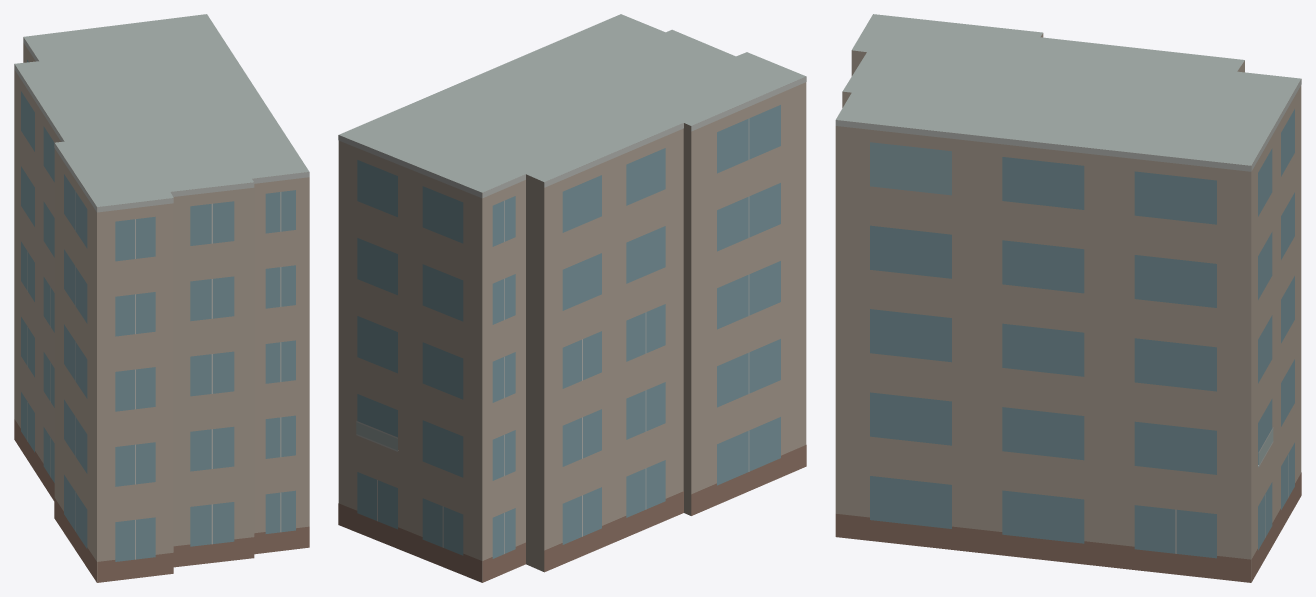
The model's file is survey-upis-32726569.glb.
3 renders of one model, left to right at view 1: azimuth 30°, elevation 25°; view 2: azimuth 150°, elevation 25°; view 3: azimuth 270°, elevation 25°, orthographic. The views are drawn at different scales.
Visible parts, largest first — view 1: survey-upis-32726569.tmp; view 2: survey-upis-32726569.tmp; view 3: survey-upis-32726569.tmp.
Part boxes in pixels (left/top/right/bottom): survey-upis-32726569.tmp: left=14, top=14, right=309, bottom=582; survey-upis-32726569.tmp: left=338, top=14, right=806, bottom=582; survey-upis-32726569.tmp: left=835, top=14, right=1301, bottom=582.
Size of the model in its own units: 13.28 by 17 by 17.22.
